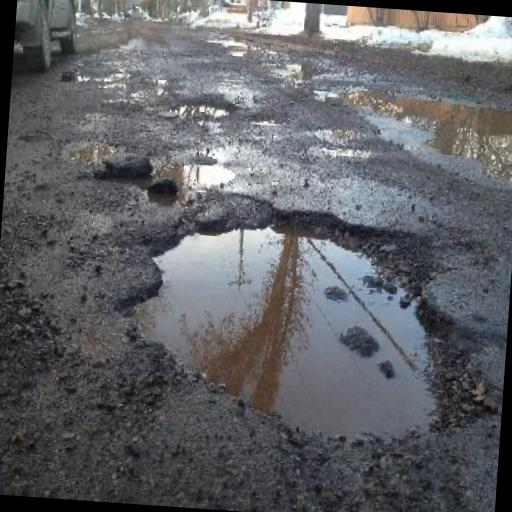pothole: (112, 189, 492, 448), (174, 93, 235, 123), (58, 136, 120, 164), (183, 157, 237, 186)
